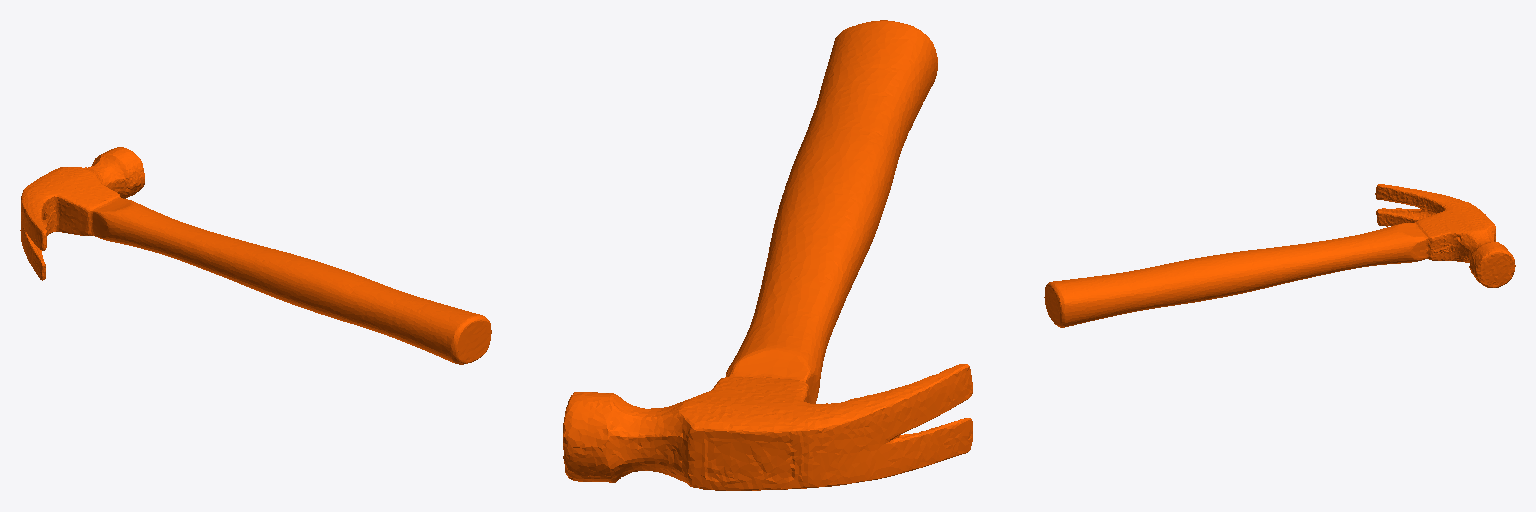
URDF robot description (048_hammer):
<?xml version="1.0" ?>
<robot name="048_hammer">
   <material name="obj_color">
      <color rgba="1.0 0.423529411765 0.0392156862745 1.0"/>
   </material>
   <link name="top">
      <inertial>
         <origin rpy="0.0001958806119638845 0.005881187961421524 0.006032425705186461" xyz="0.02114671124261433 -0.04402205680663557 -0.0002853397601881726"/>
         <mass value="0.5075231883912201"/>
         <inertia ixx="0.005171047631002314" ixy="0.001879759775401466" ixz="1.356046380924347e-05" iyy="0.0009062587629001511" iyz="-2.459998104385522e-05" izz="0.006032187884669403"/>
      </inertial>
      <visual>
         <origin rpy="0 0 0" xyz="0 0 0"/>
         <geometry>
            <mesh filename="top_watertight_tiny.stl" scale="1 1 1"/>
         </geometry>
         <material name="obj_color"/>
      </visual>
      <collision>
         <origin rpy="0 0 0" xyz="0 0 0"/>
         <geometry>
            <mesh filename="top_watertight_tiny.obj" scale="1 1 1"/>
         </geometry>
      </collision>
   </link>
   <link name="bottom">
      <inertial>
         <origin rpy="1.633333333199431e-08 1.633333333199431e-08 1.633333333362855e-08" xyz="0.3464080000000008 0.3464080000000008 0.3464080000000008"/>
         <mass value="0.0009800000000000017"/>
         <inertia ixx="1.633333333253906e-08" ixy="5.447480642029219e-19" ixz="5.447480642029219e-19" iyy="1.633333333253906e-08" iyz="5.447480642029219e-19" izz="1.633333333253906e-08"/>
      </inertial>
      <visual>
         <origin rpy="0 0 0" xyz="0 0 0"/>
         <geometry>
            <mesh filename="bottom_watertight_tiny.stl" scale="1 1 1"/>
         </geometry>
         <material name="obj_color"/>
      </visual>
   </link>
   <joint name="rotation" type="revolute">
      <origin xyz="0 0 0"/>
      <axis xyz="0 0 -1"/>
      <parent link="bottom"/>
      <child link="top"/>
      <dynamics damping="1.0" friction="1.0"/>
      <limit effort="0.1" velocity="0.1" lower="0" upper="0.001"/>
   </joint>
</robot>

--- Render facts (derived) ---
3 views of the same robot in one strip: view 1: azimuth 30°, elevation 25°; view 2: azimuth 150°, elevation 25°; view 3: azimuth 270°, elevation 25° (orthographic).
Model 048_hammer with 2 links and 1 joints (1 revolute), rooted at bottom, posed all joints at 0.
Links seen in each view (by area): view 1: top; view 2: top; view 3: top.
Boxes of the visible links, left/top/right/bottom form: top: left=20, top=147, right=491, bottom=364; top: left=563, top=20, right=972, bottom=490; top: left=1044, top=184, right=1515, bottom=327.
Size in the robot's own frame: 0.1822 by 0.3327 by 0.0329 metres.
Meshes: 2 distinct files referenced, 1 mesh visuals loaded (1 binary STL); not drawn: 1 (reference not matched to a file when rendering).
